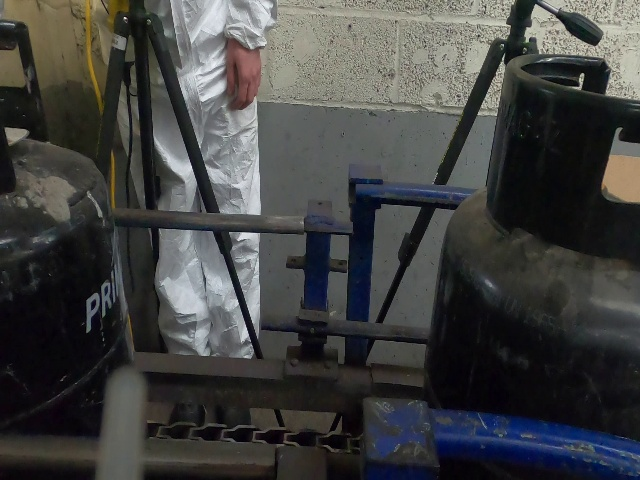gas_bottle: (5, 1, 636, 480)
